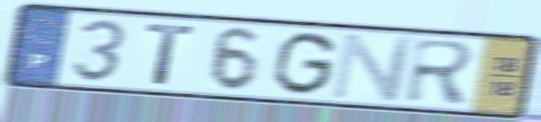3: (65, 17, 132, 84)
6: (208, 25, 263, 94)
G: (269, 30, 340, 98)
N: (328, 31, 419, 102)
R: (402, 36, 480, 106)
T: (143, 21, 201, 88)
